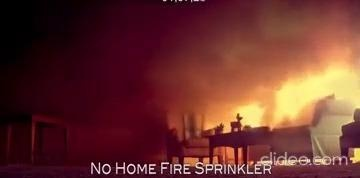fire: (179, 41, 360, 138)
